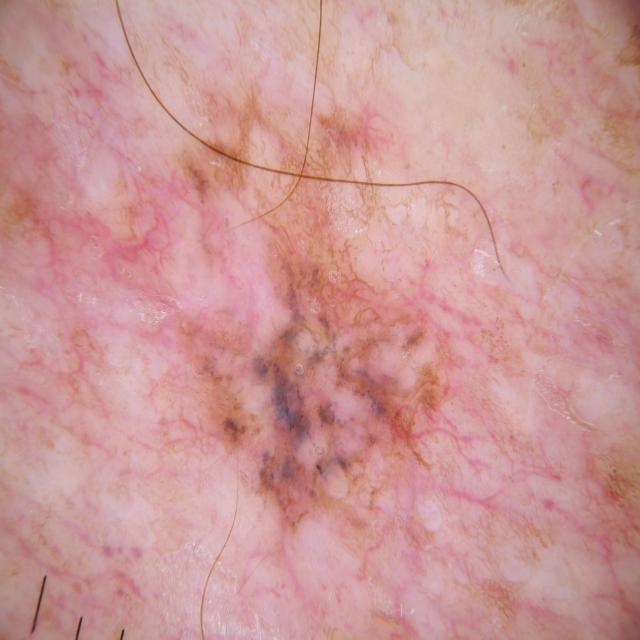Melanoma: (159, 104, 471, 544)
